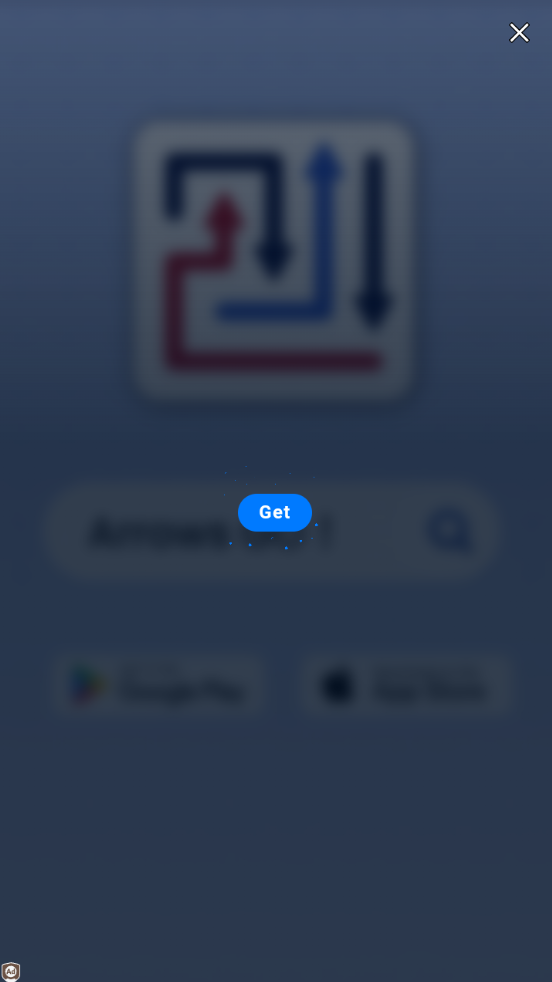close_button: (503, 19, 534, 47)
